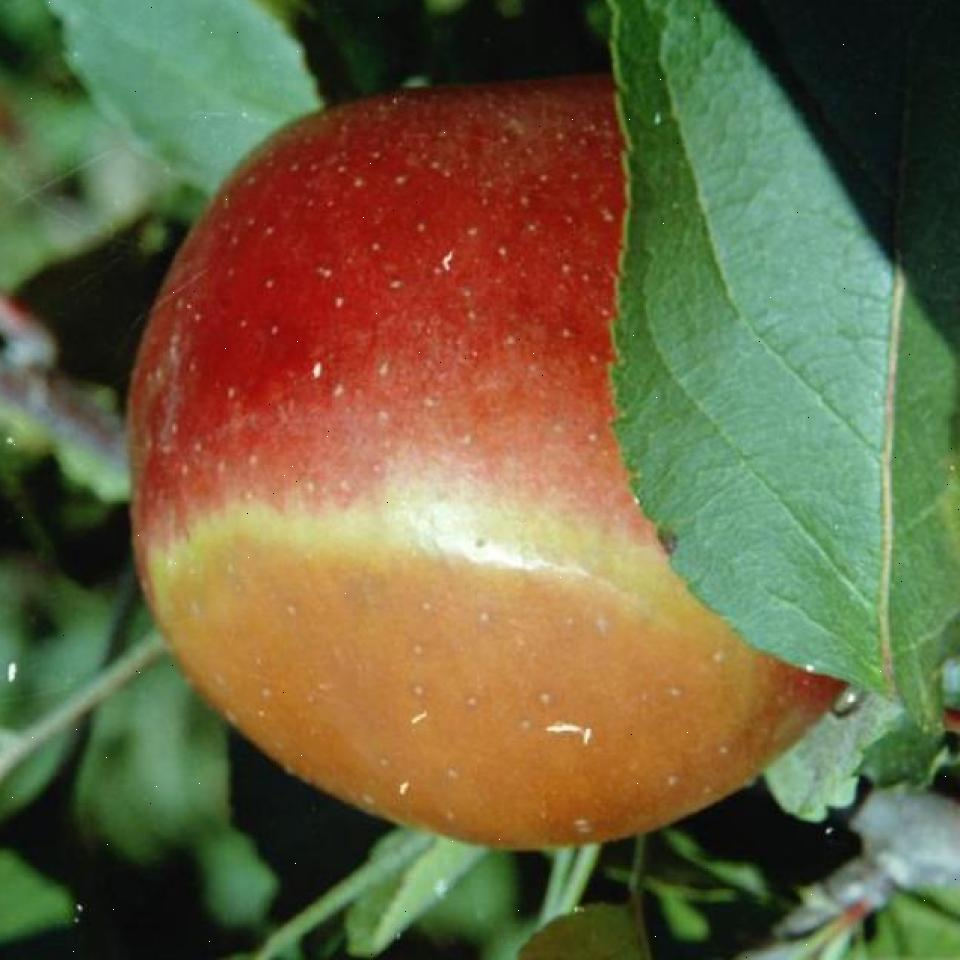Sunscald: (149, 429, 791, 856)
